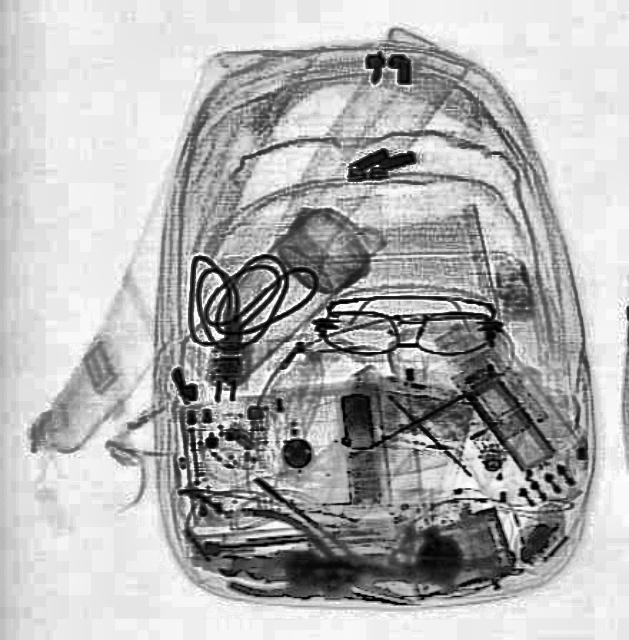Pliers: (214, 502, 423, 638)
Wrench: (218, 549, 329, 589)
